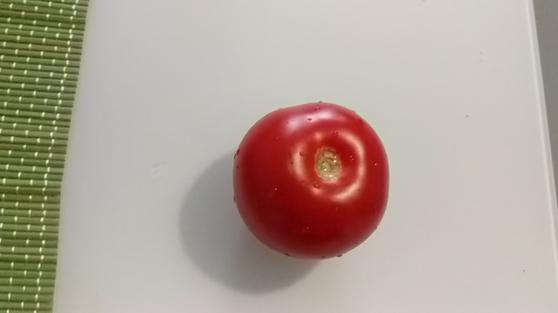tomato: (229, 100, 391, 261)
